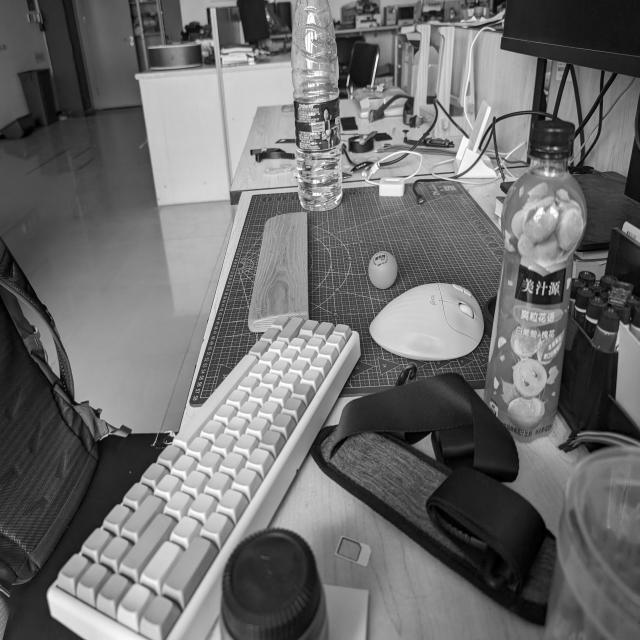ping-pong-ball: (368, 250, 398, 290)
